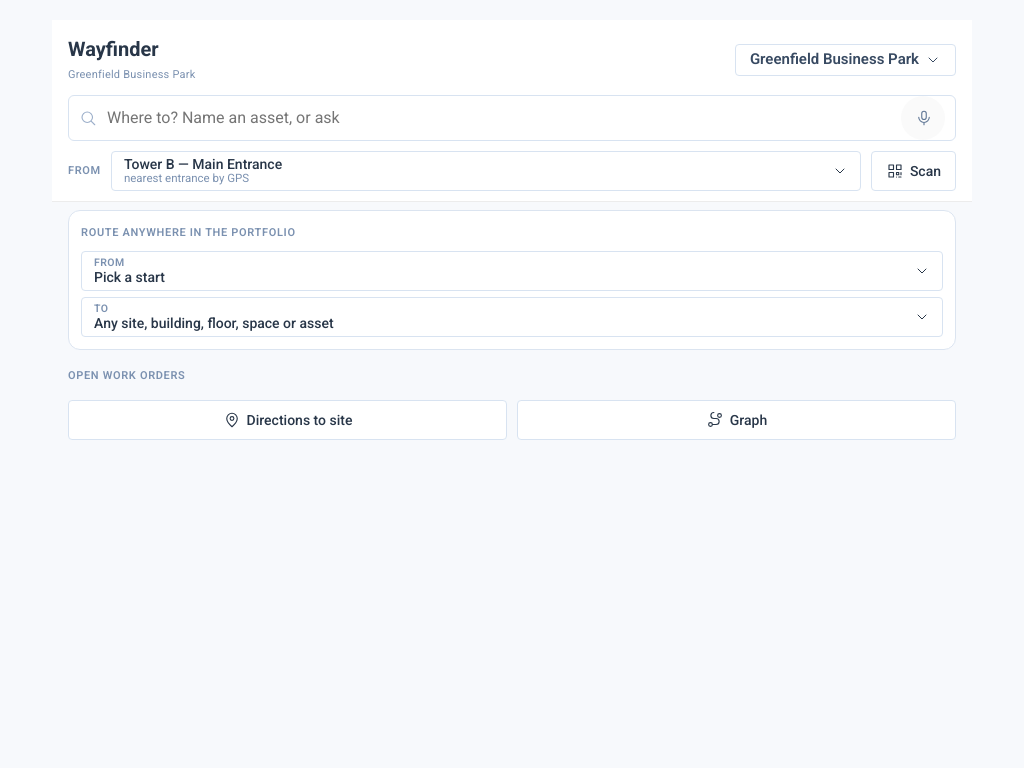
Test: portfolio picker — hierarchy and search › search stays flat and names where each duplicate lives
Click the button "To Any site, building, floor, space or asset". click: point(214, 323)
box: top-left (81, 297), bottom-right (943, 337)
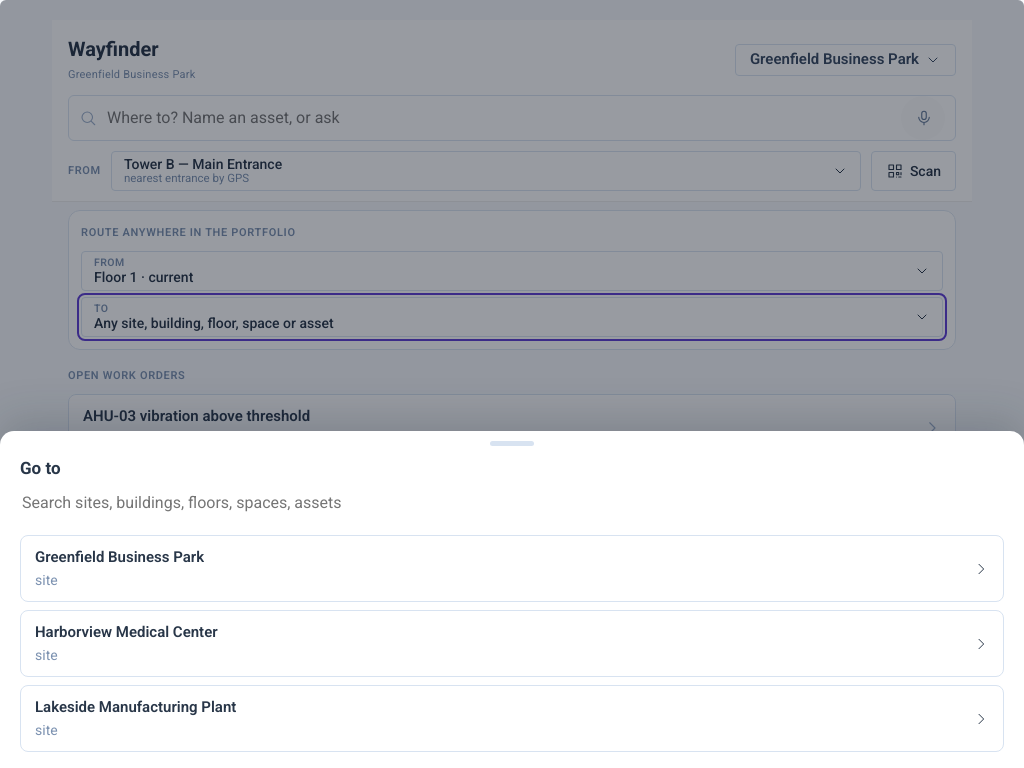
Check: the button "Greenfield Business Park site" is shown, box top-left (20, 535), bottom-right (1004, 602)
Type "floor 1" into the field named "Search the portfolio". click: point(512, 504)
box: top-left (20, 492), bottom-right (1004, 515)
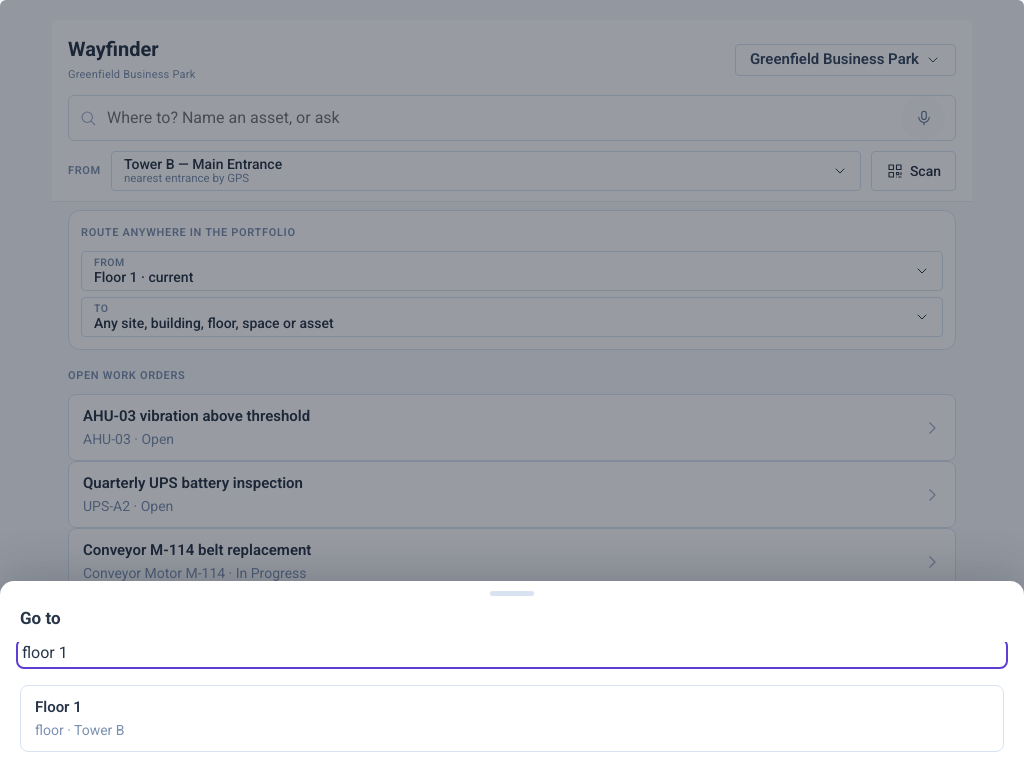
Check: the text "floor · Tower B" is shown, box top-left (35, 720), bottom-right (124, 740)
